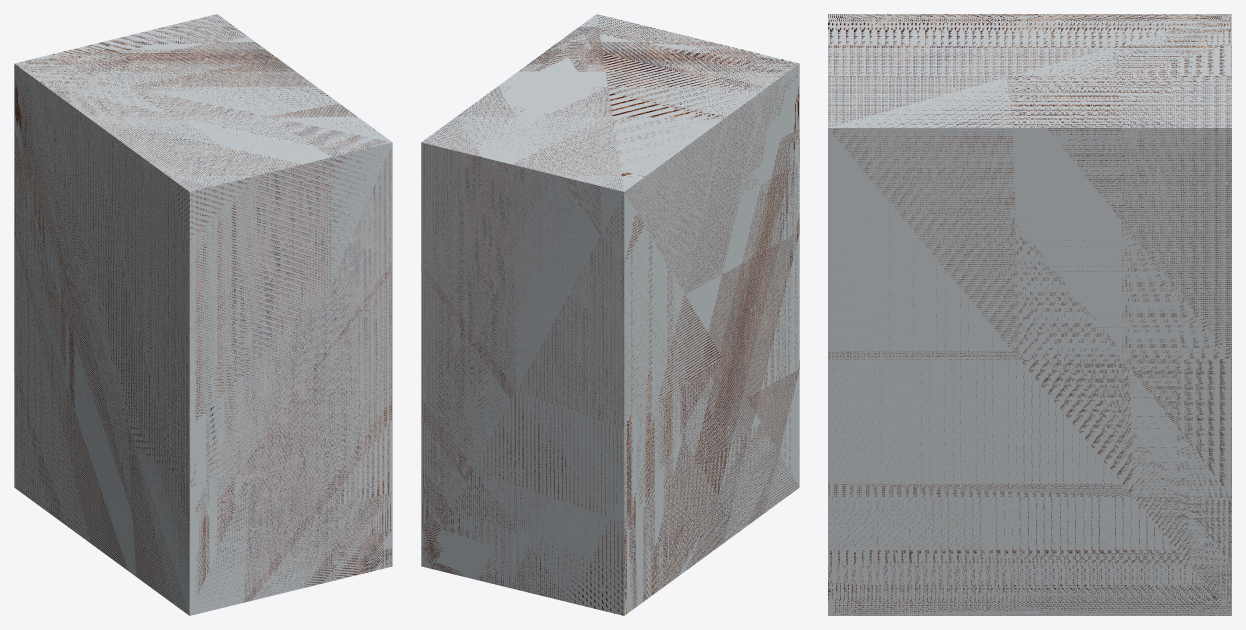
Rendered from balau.glb.
The picture shows the model from 3 angles, left to right: view 1: azimuth 30°, elevation 25°; view 2: azimuth 150°, elevation 25°; view 3: azimuth 270°, elevation 25°; orthographic projection. The views are drawn at different scales.
Parts seen in each view (by area): view 1: BackSide, FrontSide; view 2: BackSide, FrontSide; view 3: BackSide, FrontSide.
Boxes of the visible parts, left/top/right/bottom form: BackSide: left=14, top=14, right=392, bottom=615; FrontSide: left=14, top=15, right=391, bottom=613; BackSide: left=421, top=14, right=799, bottom=615; FrontSide: left=421, top=15, right=799, bottom=615; BackSide: left=828, top=14, right=1231, bottom=615; FrontSide: left=828, top=14, right=1231, bottom=615.
Bounding box in the file's own units: 1.82 × 3.63 × 2.72.
Materials: 4 (3 with a texture image).
